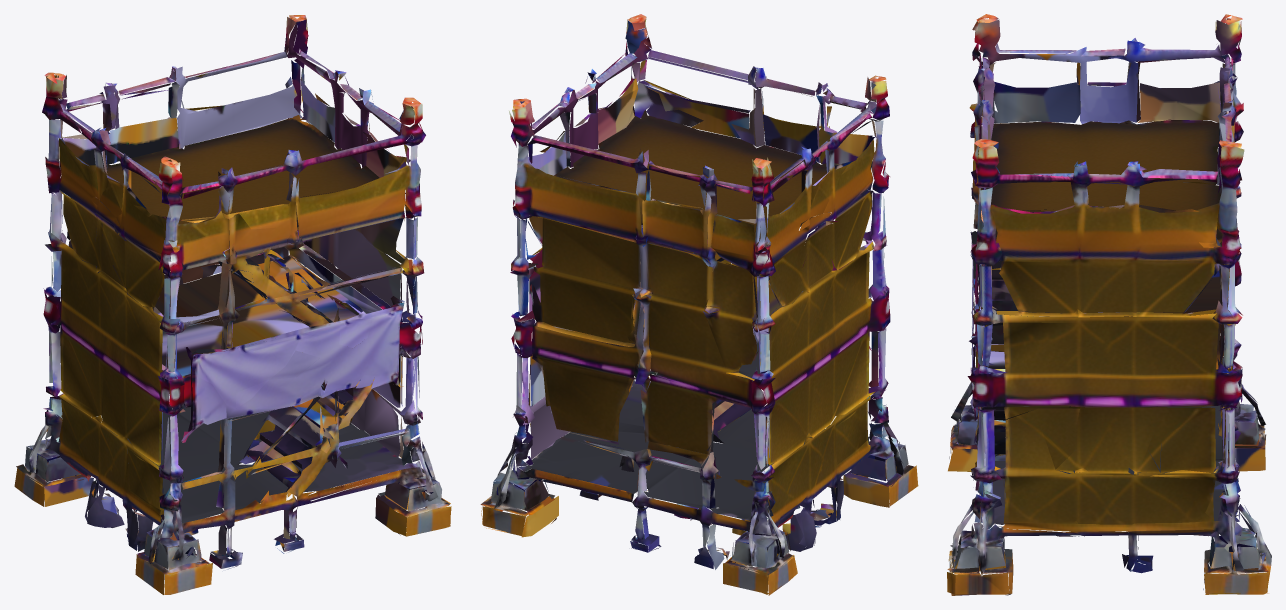
The model's file is h3-scaffold.glb.
3 views of the same model, side by side, from view 1: azimuth 30°, elevation 25°; view 2: azimuth 150°, elevation 25°; view 3: azimuth 270°, elevation 25° (orthographic). The views are drawn at different scales.
Parts seen in each view (by area): view 1: tmp3g8vg9uw.ply; view 2: tmp3g8vg9uw.ply; view 3: tmp3g8vg9uw.ply.
Part boxes in pixels (<box>): tmp3g8vg9uw.ply: <box>14,15,451,594</box>; tmp3g8vg9uw.ply: <box>480,14,918,595</box>; tmp3g8vg9uw.ply: <box>947,14,1271,595</box>.
Bounding box in the file's own units: 1.47 × 2.01 × 1.33.
Materials: 1 (1 with a texture image).
